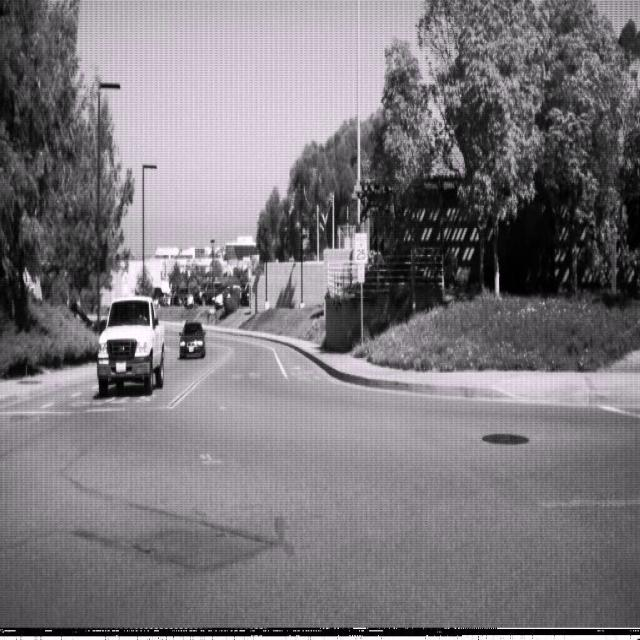speedLimit25: (354, 232, 367, 262)
